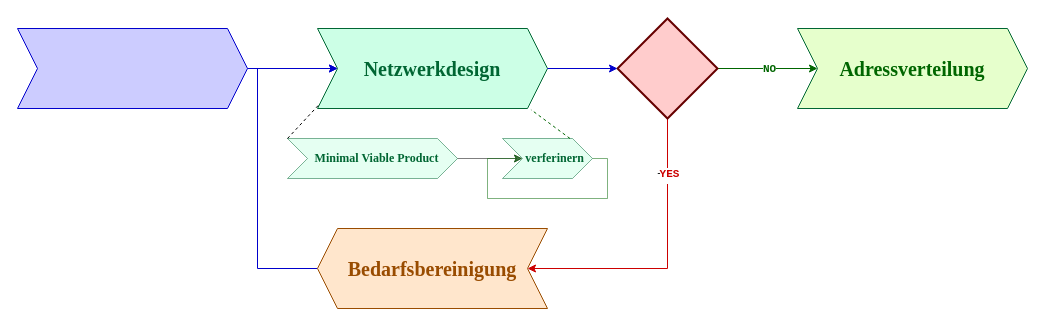
The diagram is 1045 pixels wide and 326 high, and some of its shapes have lost their labels. Here are the shapes that lost their labels. From the top down, the centre of each, then its label:
At (x=132, y=68): "Bedarfsanalyse".
At (x=667, y=68): "Widersprüche?".
